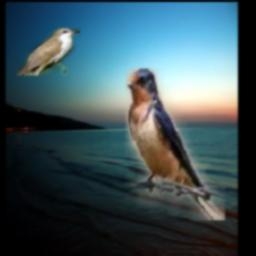Cuckoo: (16, 28, 80, 75)
Swallow: (125, 69, 225, 221)
